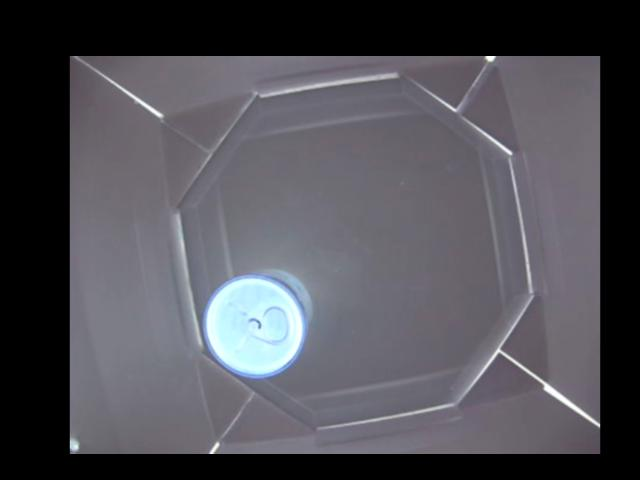Bottle: (204, 270, 310, 378)
